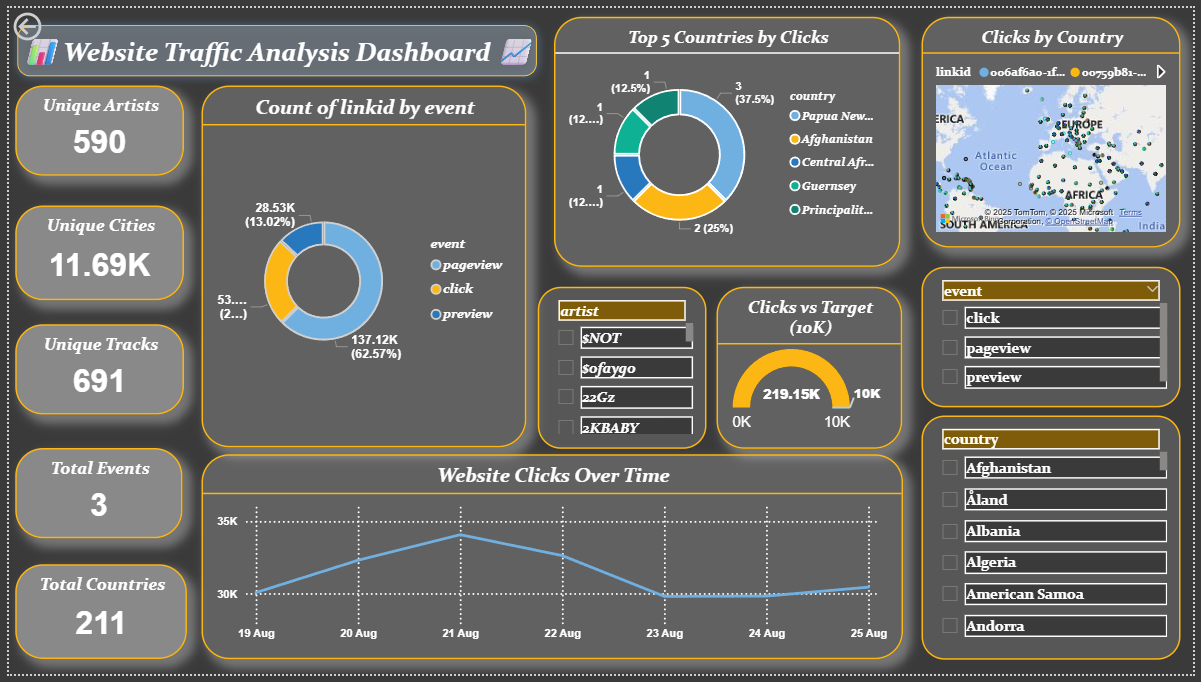

What the dashboard file says about the page in this screenshot:
{"tool":"powerbi","page":{"name":"Traffic Dashboard","canvas":[1280,720],"ordinal":0},"visuals":[{"type":"card","title":"Total Events","fields":{"Values":["Count(traffic.event)"]},"box":[7.3,475.7,181,97.8],"z":0},{"type":"card","title":"Total Countries","fields":{"Values":["Count(traffic.country)"]},"box":[7.3,601.6,185.9,102.7],"z":1000},{"type":"card","title":"Unique Cities","fields":{"Values":["Count(traffic.city)"]},"box":[7.3,214,182.2,102.7],"z":2000},{"type":"card","title":"Unique Artists","fields":{"Values":["Count(traffic.artist)"]},"box":[6.1,84.4,182.2,97.8],"z":3000},{"type":"card","title":"Unique Tracks","fields":{"Values":["Count(traffic.track)"]},"box":[6.1,342.4,182.2,97.8],"z":4000},{"type":"map","title":"Clicks by Country","fields":{"Category":["traffic.country"],"Series":["traffic.linkid"]},"box":[986.8,9.8,280,249.5],"z":5000},{"type":"slicer","fields":{"Values":["traffic.country"]},"box":[986.8,440.2,280,264.1],"z":6000},{"type":"actionButton","box":[0,0,100,40],"z":7000},{"type":"slicer","fields":{"Values":["traffic.event"]},"box":[986.8,280,280,151.6],"z":8000},{"type":"donutChart","title":"Top 5 Countries by Clicks","fields":{"Category":["traffic.country"],"Y":["Count(traffic.linkid)"]},"box":[589.4,9.8,374.2,270.2],"z":9000},{"type":"gauge","title":"Clicks vs Target (10K)","fields":{"Y":["CountNonNull(traffic.linkid)"],"TargetValue":["traffic.TargetClicks"],"MaxValue":["traffic.GaugeMax"],"MinValue":["traffic.GaugeMin"]},"box":[765.5,300.8,200.5,174.9],"z":10000},{"type":"donutChart","fields":{"Category":["traffic.event"],"Y":["CountNonNull(traffic.linkid)"]},"box":[207.9,84.4,351,391.3],"z":11000},{"type":"lineChart","title":"Website Clicks Over Time","fields":{"Y":["CountNonNull(traffic.linkid)"],"Category":["traffic.CleanDate.Variation.Date Hierarchy.Year","traffic.CleanDate.Variation.Date Hierarchy.Quarter","traffic.CleanDate.Variation.Date Hierarchy.Month","traffic.CleanDate.Variation.Date Hierarchy.Day"]},"box":[207.9,483,758.2,221.3],"z":12000},{"type":"shape","box":[0,9.8,579.6,73.4],"z":13000},{"type":"slicer","fields":{"Values":["traffic.artist"]},"box":[572.3,300.8,182.2,174.9],"z":14000}]}

Visuals, with their boxes in screenshot pixels (x1, y1, x2, y2):
"Total Events" card: (10, 443, 177, 534)
"Total Countries" card: (10, 560, 182, 655)
"Unique Cities" card: (10, 201, 178, 296)
"Unique Artists" card: (9, 81, 177, 172)
"Unique Tracks" card: (9, 320, 177, 410)
"Clicks by Country" map: (916, 12, 1175, 243)
slicer - traffic.country: (916, 410, 1175, 655)
actionButton: (3, 3, 96, 40)
slicer - traffic.event: (916, 262, 1175, 402)
"Top 5 Countries by Clicks" donutChart: (549, 12, 895, 262)
"Clicks vs Target (10K)" gauge: (711, 281, 897, 443)
donutChart - traffic.event x CountNonNull(traffic.linkid): (196, 81, 520, 443)
"Website Clicks Over Time" lineChart: (196, 450, 897, 655)
shape: (3, 12, 539, 80)
slicer - traffic.artist: (533, 281, 701, 443)
